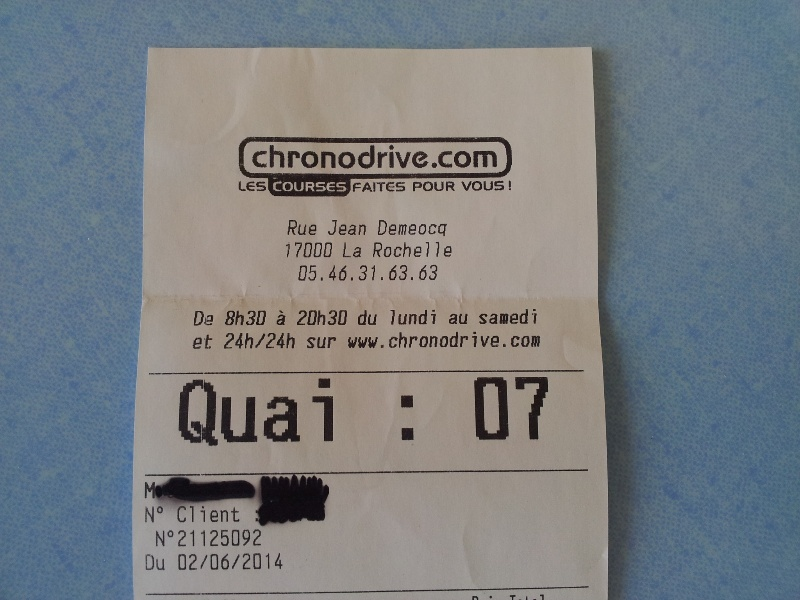text: (177, 378, 192, 447), (193, 378, 208, 447), (209, 378, 224, 447), (225, 378, 240, 447), (241, 378, 256, 447), (257, 378, 272, 447), (273, 378, 288, 447), (289, 378, 304, 447), (305, 378, 320, 447), (481, 375, 496, 443), (497, 375, 512, 443), (513, 375, 528, 443), (529, 375, 544, 443), (321, 378, 335, 447), (401, 395, 416, 444), (471, 375, 480, 443), (257, 144, 272, 172), (273, 144, 288, 172), (289, 144, 304, 172), (305, 144, 320, 172), (321, 144, 336, 172), (337, 144, 352, 172), (353, 144, 368, 172), (369, 144, 384, 172), (385, 144, 400, 172), (401, 144, 416, 172), (417, 144, 432, 172), (433, 144, 448, 172), (449, 144, 464, 172), (465, 144, 480, 172), (481, 144, 496, 172), (545, 375, 551, 443), (145, 502, 160, 524), (225, 504, 241, 524), (353, 330, 368, 350), (369, 330, 384, 350), (385, 330, 400, 350), (401, 330, 416, 350), (417, 330, 432, 350), (433, 330, 448, 350), (449, 330, 464, 350), (465, 330, 480, 350), (481, 330, 496, 350), (497, 330, 512, 350), (513, 330, 528, 350), (177, 504, 192, 524), (193, 504, 208, 524), (209, 504, 224, 524), (161, 528, 176, 548), (177, 552, 192, 572), (193, 552, 208, 572), (209, 552, 224, 572), (225, 552, 240, 572), (241, 552, 256, 572), (257, 552, 272, 572), (145, 481, 159, 502), (385, 240, 400, 259), (401, 240, 416, 259), (417, 240, 432, 259), (433, 240, 448, 259), (177, 529, 192, 548), (193, 529, 208, 548), (209, 529, 224, 548), (225, 529, 240, 548), (241, 529, 256, 548), (145, 554, 160, 573), (305, 263, 320, 282), (321, 263, 336, 282), (337, 263, 352, 282), (353, 263, 368, 282), (369, 263, 384, 282), (385, 263, 400, 282), (401, 263, 416, 282), (417, 263, 432, 282), (529, 330, 543, 350), (401, 308, 416, 326), (417, 308, 432, 326), (289, 241, 304, 259), (305, 241, 320, 259), (481, 308, 496, 326), (497, 308, 512, 326), (513, 308, 528, 326), (225, 332, 240, 350), (241, 332, 256, 350), (257, 332, 272, 350), (273, 332, 288, 350), (385, 220, 400, 237), (401, 220, 416, 237), (417, 220, 432, 237), (433, 220, 448, 237), (305, 309, 320, 326), (321, 309, 336, 326), (337, 220, 352, 236), (353, 220, 368, 236), (241, 310, 256, 326), (273, 552, 285, 572), (321, 241, 334, 259), (195, 309, 208, 327), (290, 220, 304, 236), (194, 334, 208, 350), (275, 309, 288, 326), (227, 310, 240, 326), (321, 337, 337, 350), (337, 309, 349, 326), (353, 241, 364, 259), (369, 181, 384, 194), (385, 181, 400, 194), (417, 180, 432, 193), (433, 180, 448, 193), (241, 179, 256, 192), (356, 310, 368, 326), (305, 220, 317, 236), (374, 240, 384, 259), (354, 181, 368, 194), (450, 313, 464, 326), (273, 181, 288, 193), (289, 181, 304, 193), (305, 181, 320, 193), (321, 181, 336, 193), (289, 332, 299, 350), (497, 181, 513, 192), (257, 310, 268, 326), (250, 144, 256, 172), (465, 181, 480, 192), (481, 181, 496, 192), (529, 308, 538, 326), (308, 337, 320, 350), (369, 310, 378, 326), (392, 308, 400, 326), (344, 241, 352, 259), (209, 309, 217, 327), (257, 179, 268, 192), (345, 330, 352, 350), (433, 263, 440, 282), (337, 181, 347, 193), (377, 220, 384, 237), (257, 529, 263, 548), (161, 554, 167, 573), (329, 220, 336, 236), (298, 309, 304, 326), (209, 334, 215, 350), (299, 263, 304, 282), (449, 180, 456, 193), (497, 144, 500, 172), (156, 528, 160, 548), (401, 181, 407, 194), (449, 240, 453, 259), (433, 308, 437, 326), (284, 241, 288, 259), (161, 502, 164, 524), (399, 395, 400, 444), (460, 181, 464, 192), (413, 180, 416, 193), (465, 313, 468, 326), (238, 179, 240, 192), (143, 481, 144, 502), (479, 308, 480, 326), (449, 220, 450, 237)
